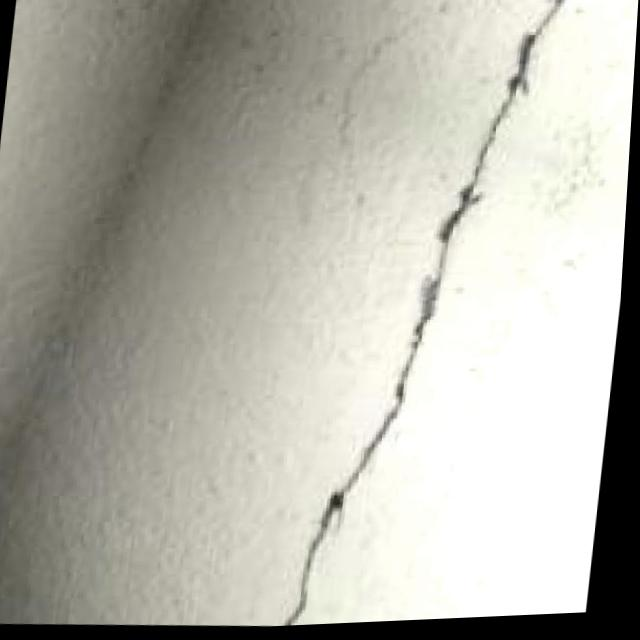Crack: (285, 0, 574, 629)
